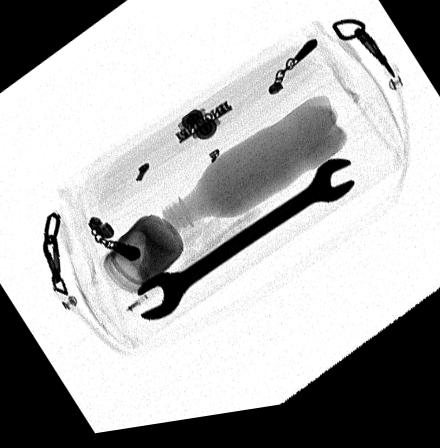Wrench: (134, 165, 355, 324)
